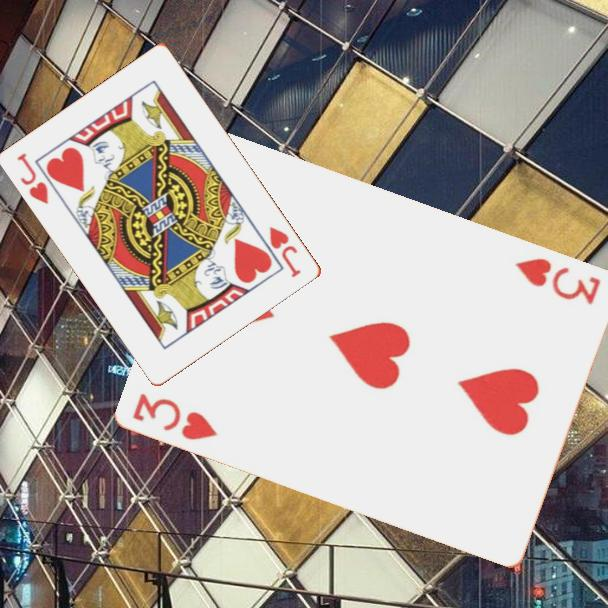h03: (512, 254, 604, 308), (130, 389, 221, 443)
h11: (14, 149, 52, 208), (266, 223, 304, 281)
